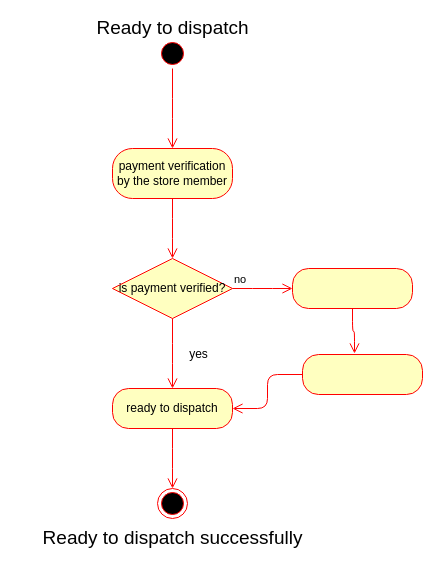
This 440x567 diagram has some shape labels left out. Each missing label, with the centre of its shape:
"check the dual payment" goes at (x=352, y=288).
"refund the one payment" goes at (x=362, y=374).
